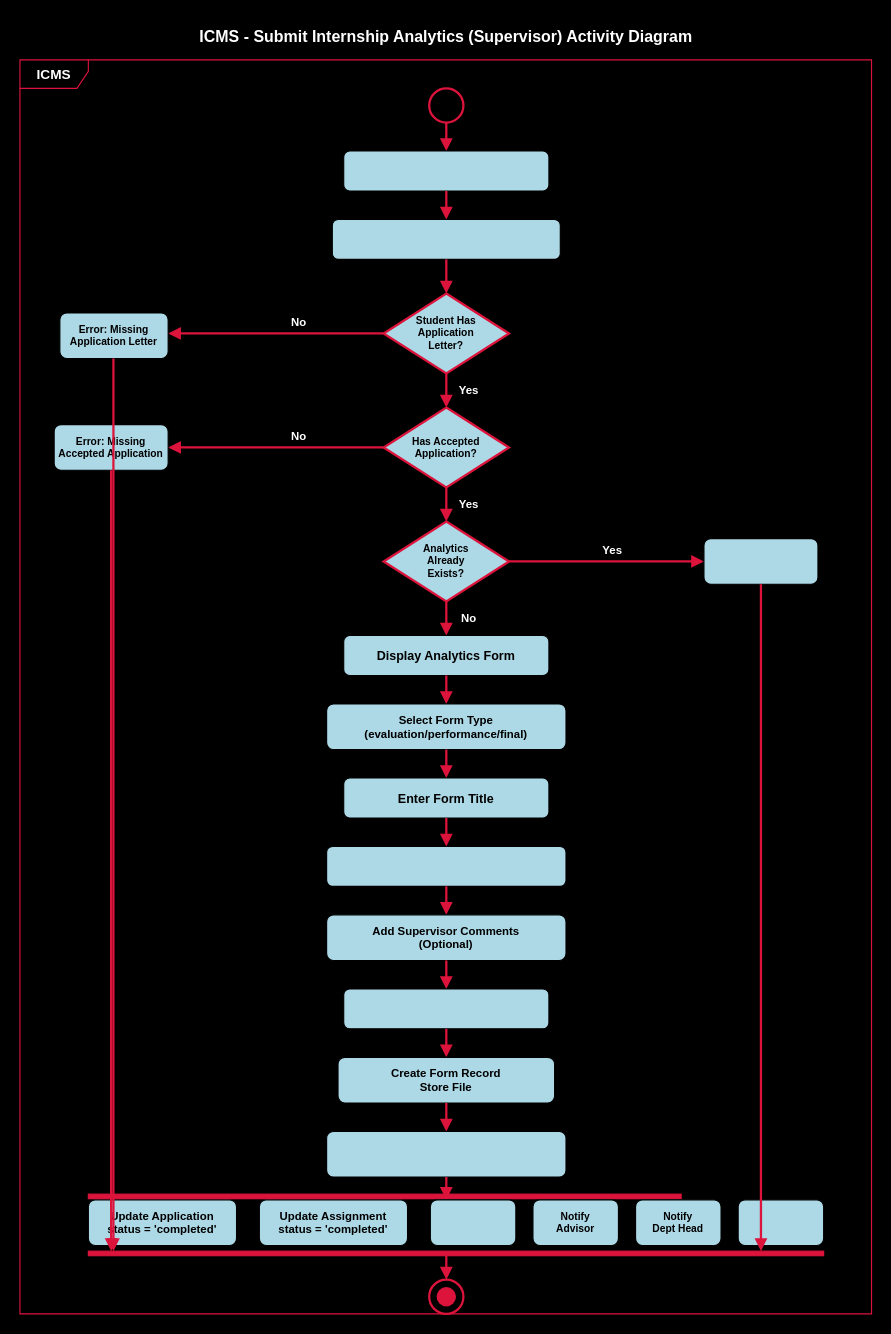
Image size: 891x1334. Some labels were removed from this diagram. The centre of each missing label's shape, as x and y in pixels:
"Click Submit Analytics" goes at point 446,1008.
"Create Analytics Record (company, dates, duration)" goes at point 445,1153.
"Error: Analytics Already Submitted" goes at point 760,561.
"Notify Coordinator" goes at point 780,1222.
"Notify Student" goes at point 472,1222.
"Select Student for Analytics" goes at point 445,238.
"Upload Form File (PDF/DOC)" goes at point 445,865.
"View Assigned Students" goes at point 446,170.
